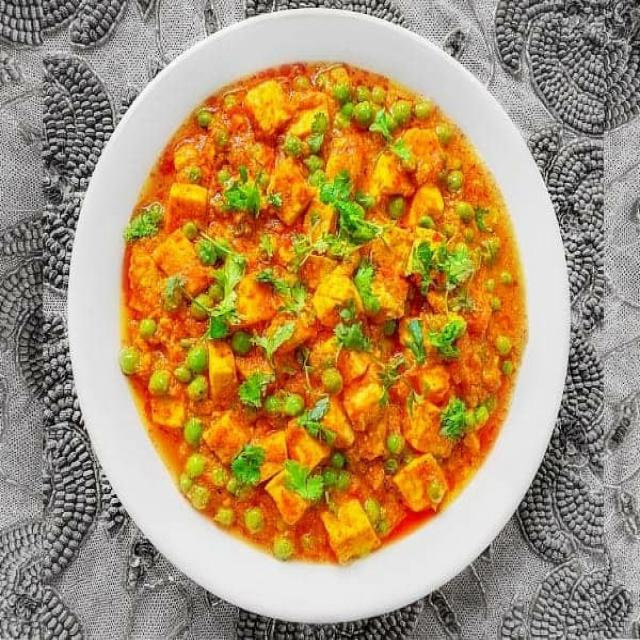ShahiPaneer: (125, 57, 527, 567)
